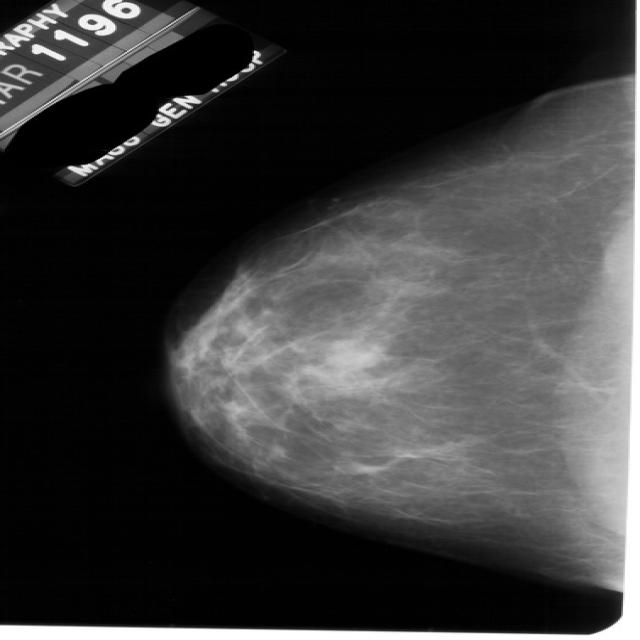tumour: (327, 338, 381, 366)
